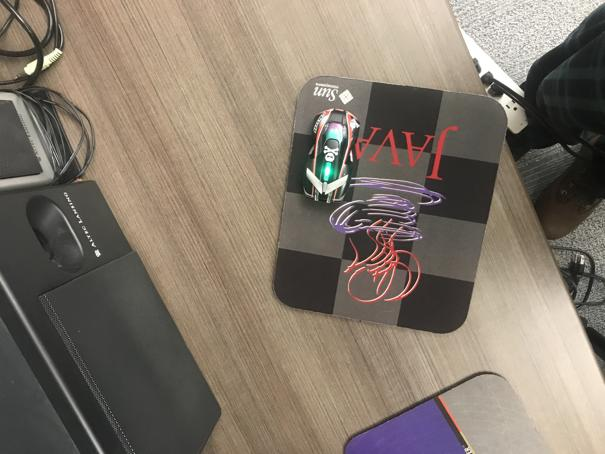Skull: (303, 107, 359, 205)
